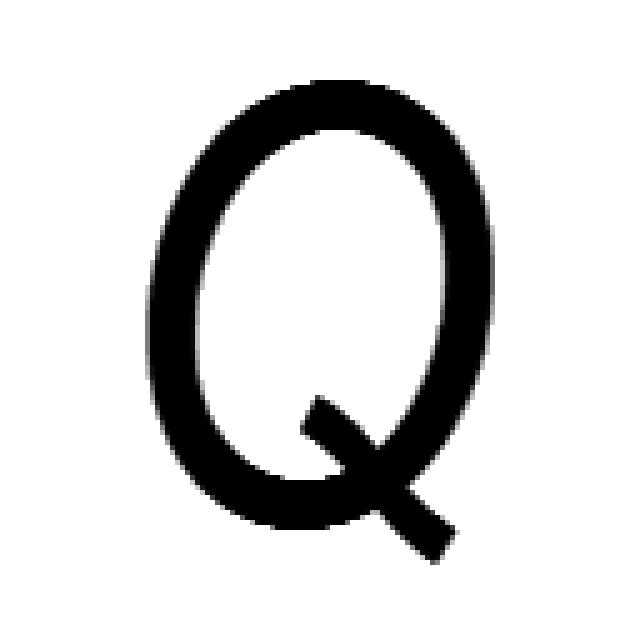Q: (135, 70, 500, 565)
